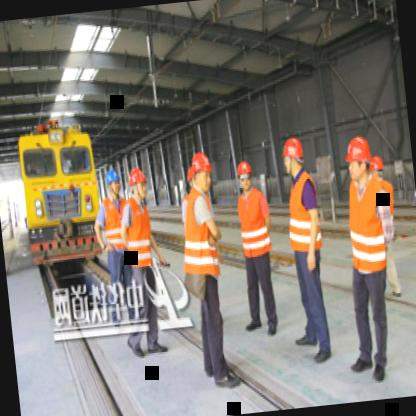helmet: (342, 134, 376, 188), (185, 152, 215, 196), (278, 136, 308, 180), (126, 158, 151, 204), (234, 156, 258, 194), (103, 162, 124, 198), (367, 148, 385, 185)
